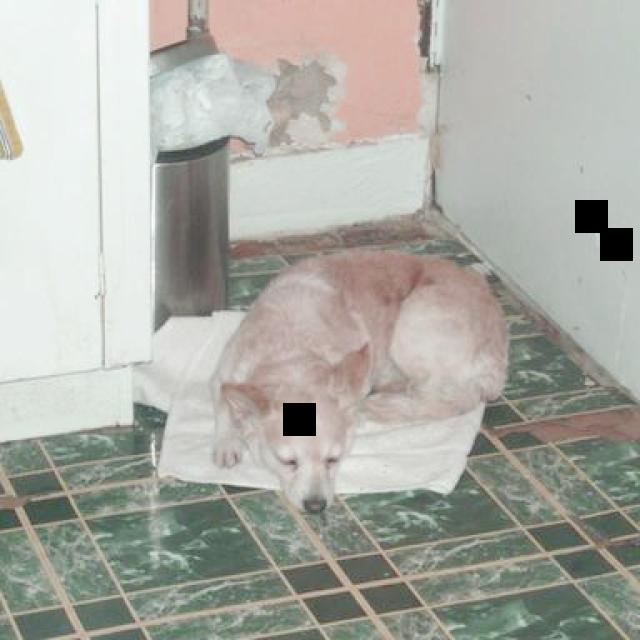adult_dog: (205, 241, 515, 522)
